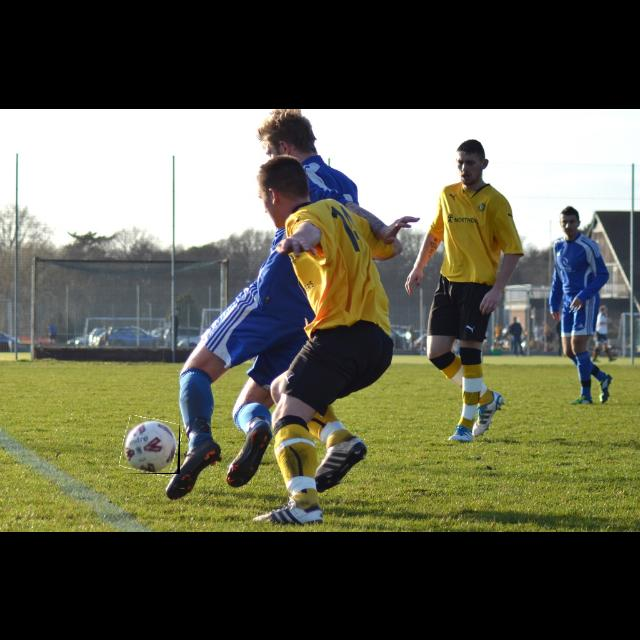Football: (122, 418, 180, 474)
